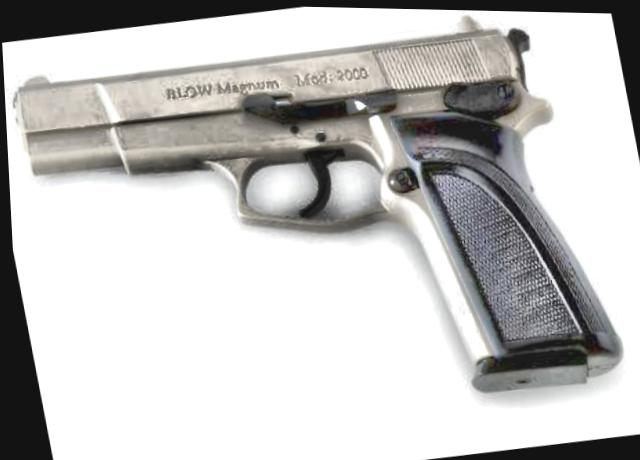pistol: (0, 0, 627, 457)
